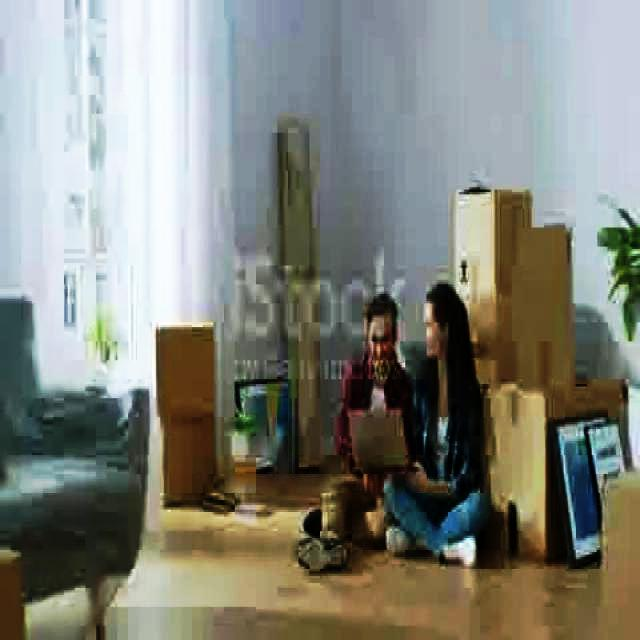Box: (456, 199, 543, 358), (153, 320, 224, 429), (158, 420, 214, 498)
